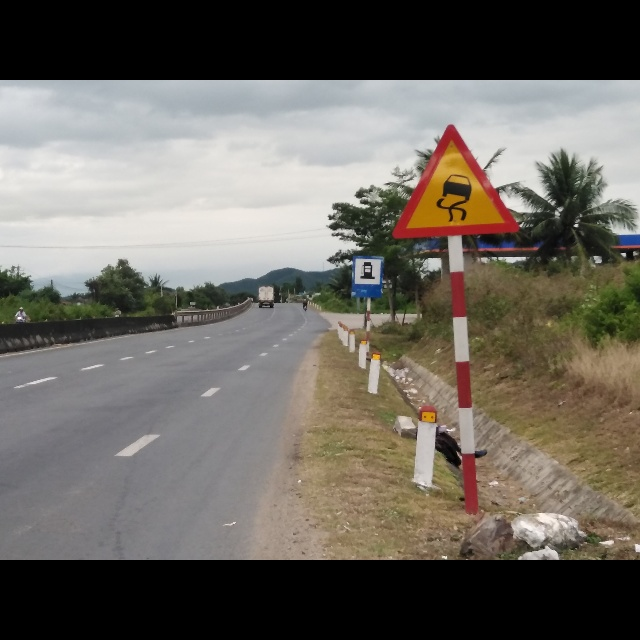Đường trơn trượt: (389, 120, 516, 239)
